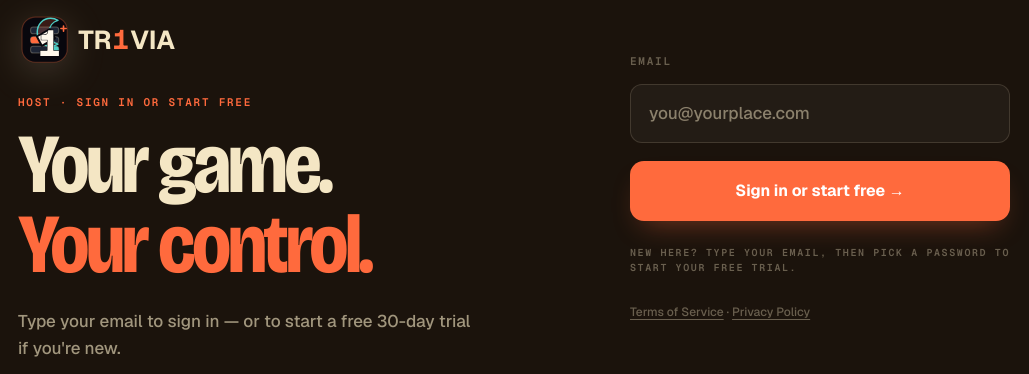
Test case: /login — account with no password yet (Heather) › if the code can't be sent, says to text Brandon and stays on step 1
Type "heather@example.com" into the field labelled "Email" at coordinates (820, 113), box [630,84,1010,143]
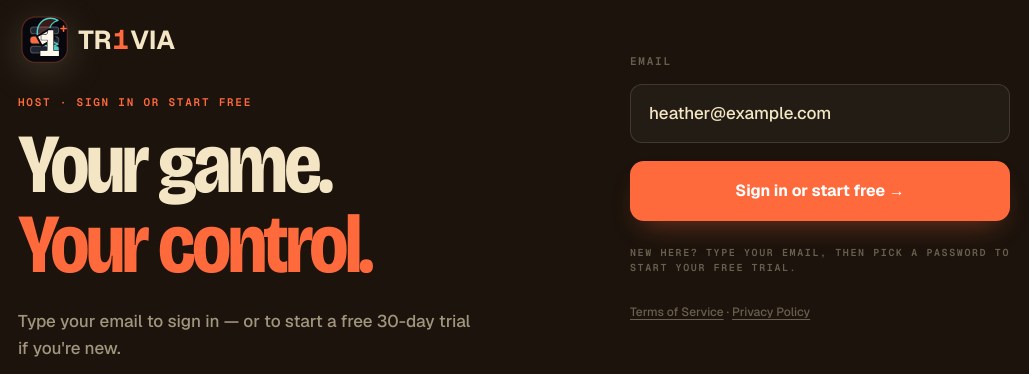
Click the button with test id "login-submit" at coordinates (820, 191), box [630,161,1010,221]
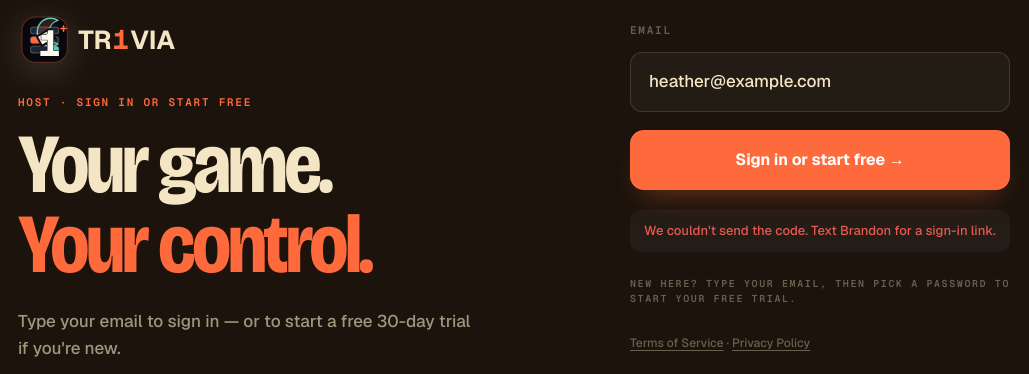
Expected: the message reads "We couldn't send the code. Text Brandon for a sign-in link.", [644,222,996,239]
